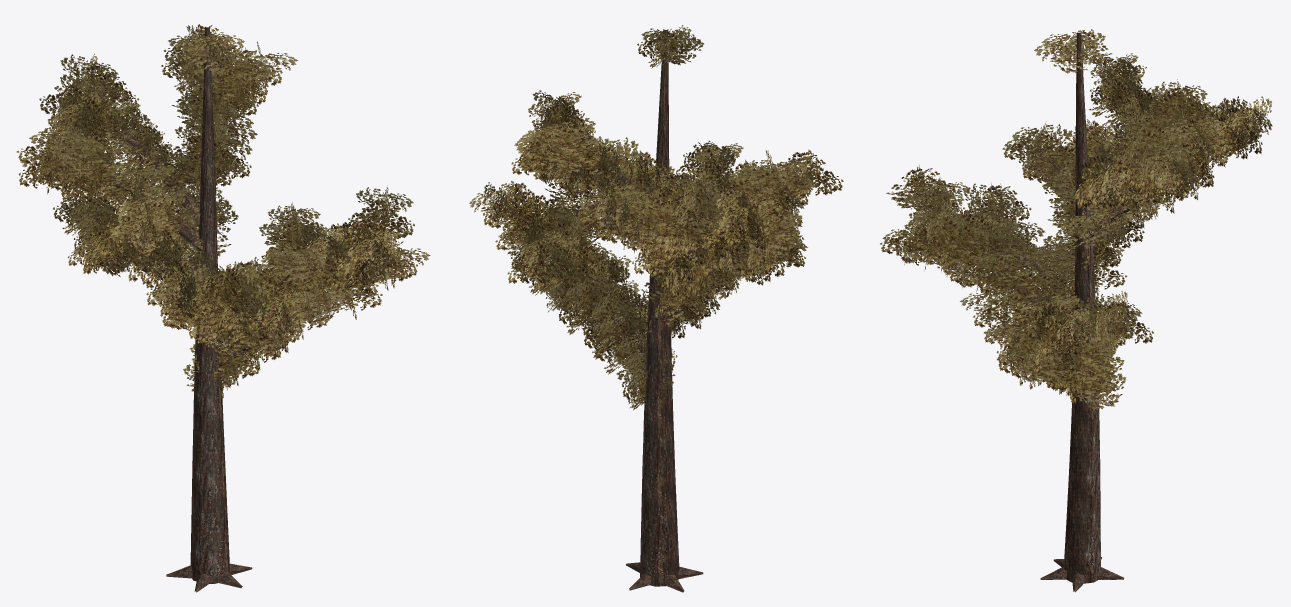
File: tree_3d_01_golden_beige_lod0.glb
3 views of the same model, side by side, from view 1: azimuth 30°, elevation 25°; view 2: azimuth 150°, elevation 25°; view 3: azimuth 270°, elevation 25° (orthographic).
Parts seen in each view (by area): view 1: foliage_cards, wood_geometry; view 2: foliage_cards, wood_geometry; view 3: foliage_cards, wood_geometry.
Boxes of the visible parts, x1,y1,x2,y2 form: foliage_cards: (16,24,430,397); wood_geometry: (69,26,393,592); foliage_cards: (469,25,843,410); wood_geometry: (508,29,793,592); foliage_cards: (880,29,1272,411); wood_geometry: (932,32,1240,592).
Bounding box in the file's own units: 6.77 × 10.07 × 6.7.
Materials: 2 (2 with a texture image).
